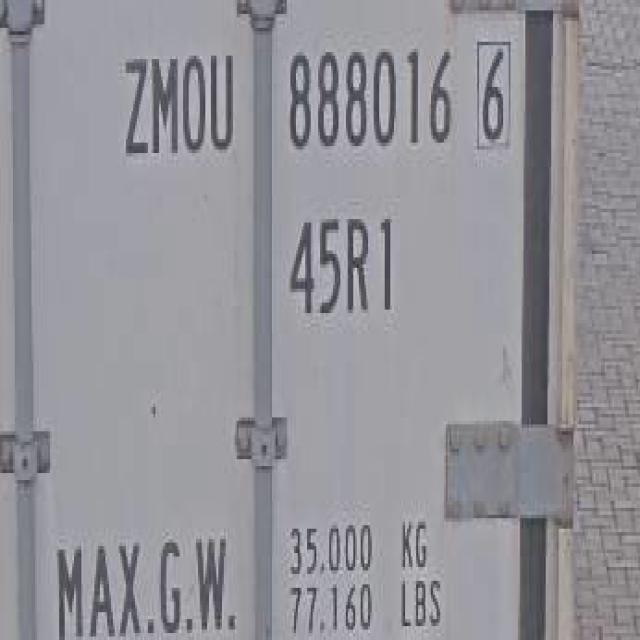dv: (472, 36, 514, 159)
owner: (119, 40, 238, 160)
serial: (283, 42, 457, 156)
size: (286, 205, 395, 328)
